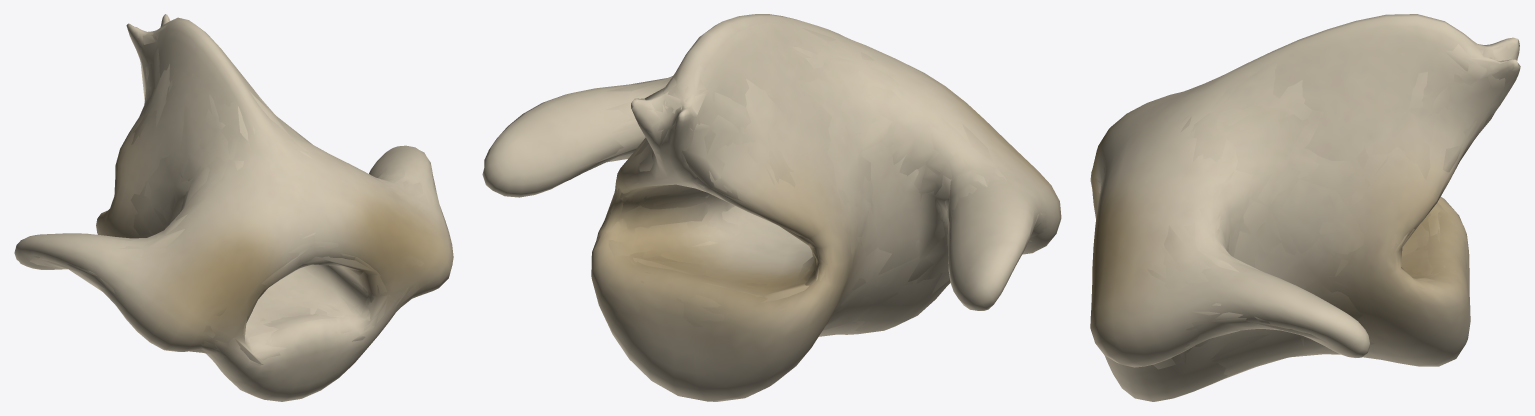
Rendered from vertebrae thoracicae 10.fbx.
3 renders of one model, left to right at view 1: azimuth 30°, elevation 25°; view 2: azimuth 150°, elevation 25°; view 3: azimuth 270°, elevation 25°, orthographic. The views are drawn at different scales.
Visible parts, largest first — view 1: vertebrae thoracicae 10 high, vertebrae thoracicae 10 low, vertebrae thoracicae 10; view 2: vertebrae thoracicae 10 high, vertebrae thoracicae 10 low, vertebrae thoracicae 10; view 3: vertebrae thoracicae 10 high, vertebrae thoracicae 10, vertebrae thoracicae 10 low.
Boxes of the visible parts, box(x1,y1,x2,y2) form: vertebrae thoracicae 10 high: box(14, 14, 453, 401); vertebrae thoracicae 10 low: box(44, 31, 420, 366); vertebrae thoracicae 10: box(30, 18, 434, 367); vertebrae thoracicae 10 high: box(482, 14, 1061, 401); vertebrae thoracicae 10 low: box(595, 28, 1042, 336); vertebrae thoracicae 10: box(590, 27, 1047, 332); vertebrae thoracicae 10 high: box(1090, 14, 1520, 401); vertebrae thoracicae 10: box(1092, 42, 1510, 383); vertebrae thoracicae 10 low: box(1097, 44, 1502, 377).
Bounding box in the file's own units: 7.57 × 5.52 × 5.71.
1 material, 1 textured.
